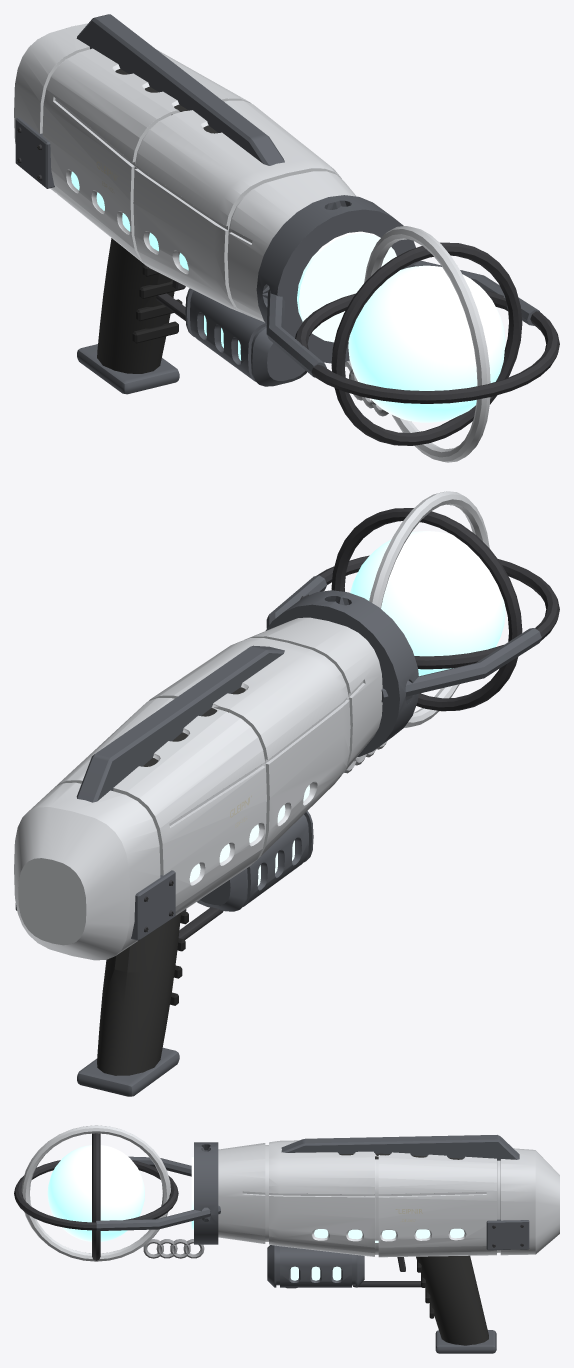
File: gleipnir.glb
The picture shows the model from 3 angles, top to bottom: view 1: azimuth 30°, elevation 25°; view 2: azimuth 150°, elevation 25°; view 3: azimuth 270°, elevation 25°; orthographic projection. The views are drawn at different scales.
Visible parts, largest first — view 1: Body; view 2: Body; view 3: Body.
Boxes of the visible parts, x1=… form: Body: x1=14, y1=14, x2=559, y2=462; Body: x1=14, y1=491, x2=559, y2=1096; Body: x1=14, y1=1125, x2=559, y2=1353.
Size of the model in its own units: 0.135 by 0.1997 by 0.4475.
